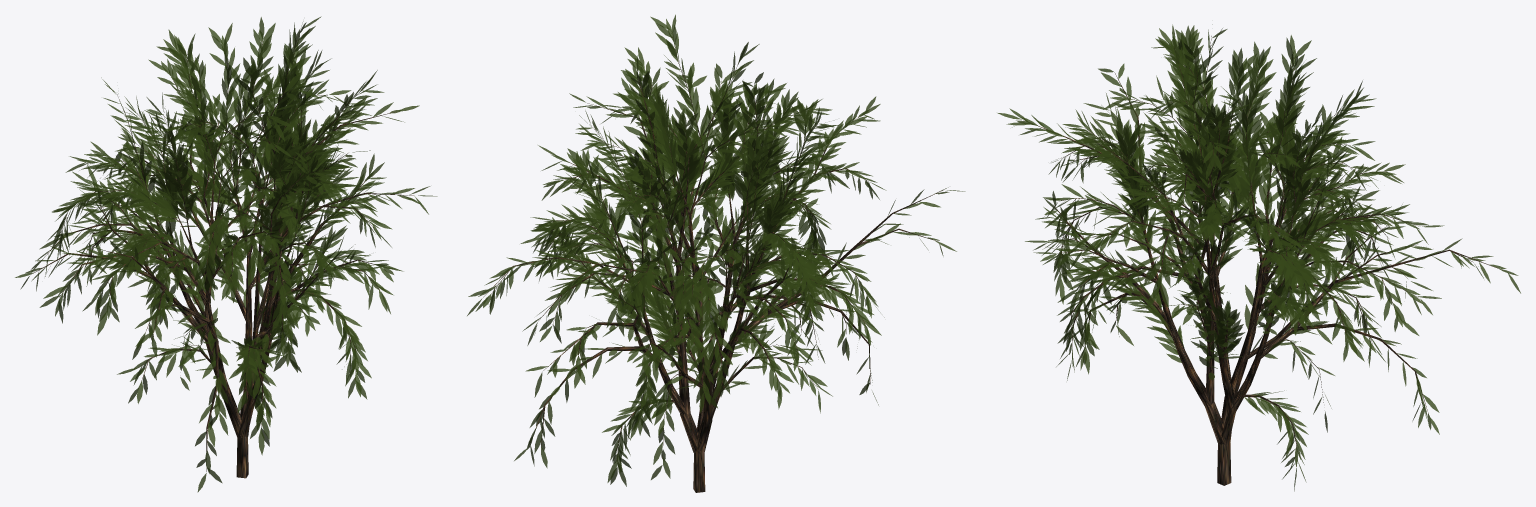
File: Dark Wood Tree 1.fbx
The picture shows the model from 3 angles, left to right: view 1: azimuth 30°, elevation 25°; view 2: azimuth 150°, elevation 25°; view 3: azimuth 270°, elevation 25°; orthographic projection. The views are drawn at different scales.
Parts seen in each view (by area): view 1: leaves 1.001, Dark Wood Tree 1; view 2: leaves 1.001, Dark Wood Tree 1; view 3: leaves 1.001, Dark Wood Tree 1.
Part boxes in pixels (x1,y1,x2,y2): leaves 1.001: [15, 16, 437, 492]; Dark Wood Tree 1: [31, 31, 413, 478]; leaves 1.001: [467, 14, 965, 486]; Dark Wood Tree 1: [483, 31, 943, 492]; leaves 1.001: [997, 24, 1520, 491]; Dark Wood Tree 1: [1023, 36, 1497, 485].
Size of the model in its own units: 606 by 727 by 749.
